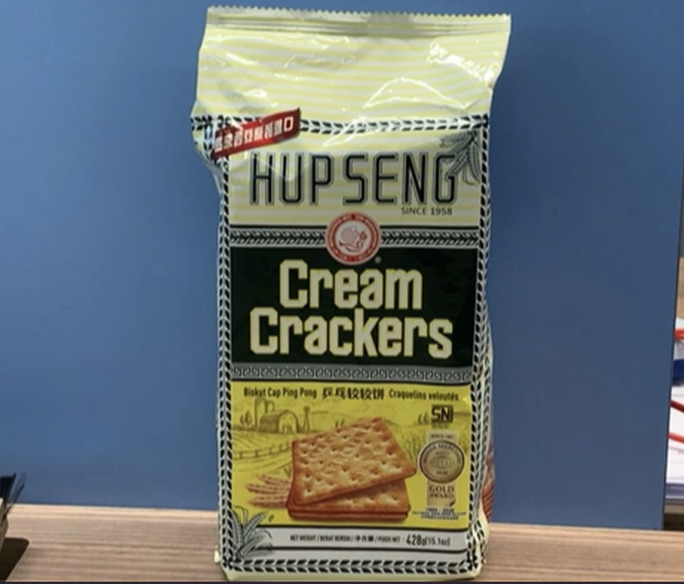crackers_400g-499g: (230, 124, 471, 563)
